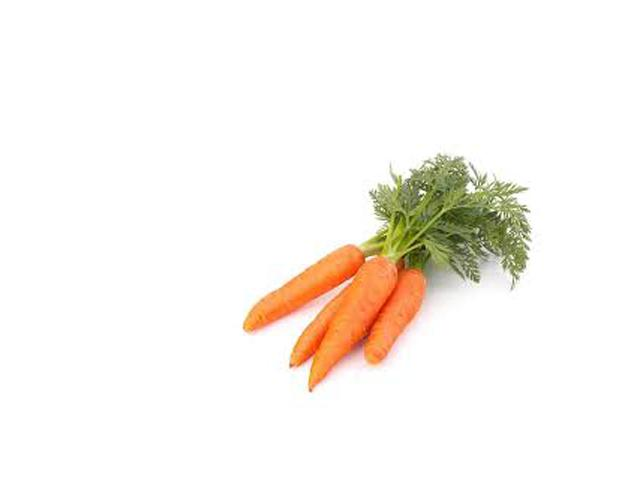carrot: (375, 267, 430, 366)
